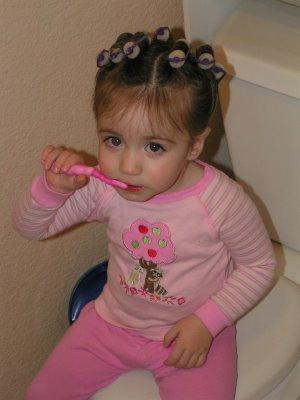person: (11, 29, 278, 399)
